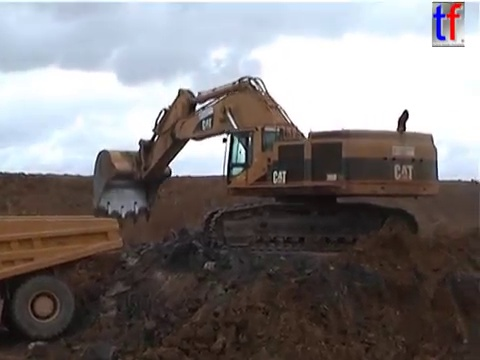excavator: (90, 74, 441, 256)
truck: (1, 211, 124, 343)
